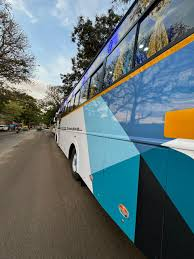bus: (54, 1, 194, 259)
